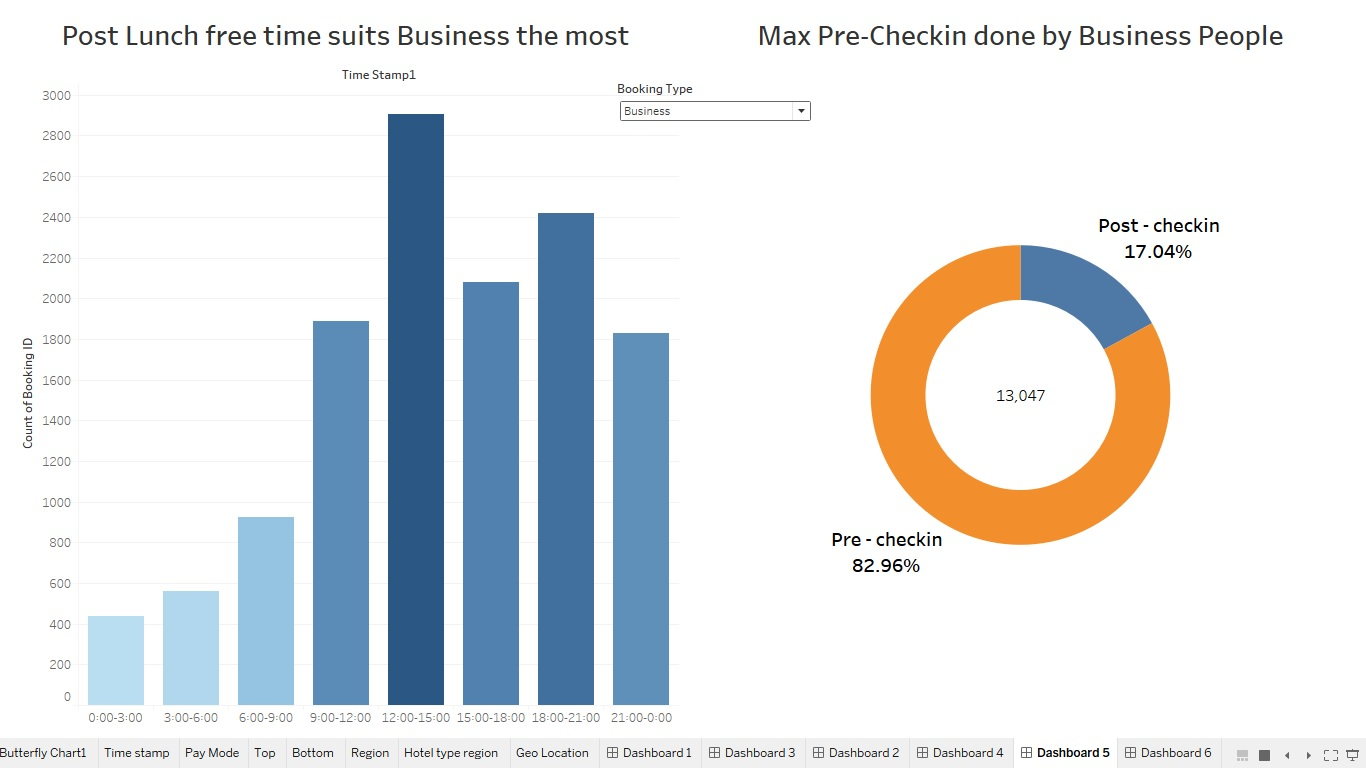

What the dashboard file says about the page in this screenshot:
{"tool":"tableau","page":{"name":"Dashboard 5","canvas":[1000,1000],"units":"permille","ordinal":4},"visuals":[{"type":"worksheet","title":"Time stamp","mark":"Automatic","rows":["Booking ID"],"cols":["Time Stamp"],"box":[6.9,13.5,493.1,973]},{"type":"worksheet","title":"Pay Mode","mark":"Pie","rows":["Number of Records","Number of Records"],"box":[500,13.5,493.1,973]},{"type":"filter","title":"Time stamp","param":"[federated.02ywmwl043gm9t17ci74g0jf1cxd].[none:Calculation_166633190341967872:nk","box":[452,108.1,144.1,81.1]}]}

Visuals, with their boxes on the dashboard's canvas, which has no fixed pixel size, in thousandths of its width and height (x1, y1, x2, y2). These are canvas units, not pixel positions in the 1366x768 screenshot, which may show the page scaled, cropped or inside an application window:
"Time stamp" worksheet: [x1=7, y1=14, x2=500, y2=986]
"Pay Mode" worksheet (Pie marks): [x1=500, y1=14, x2=993, y2=986]
"Time stamp" filter: [x1=452, y1=108, x2=596, y2=189]
